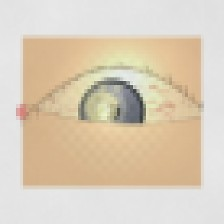corneal_ulcer: (73, 85, 130, 130)
